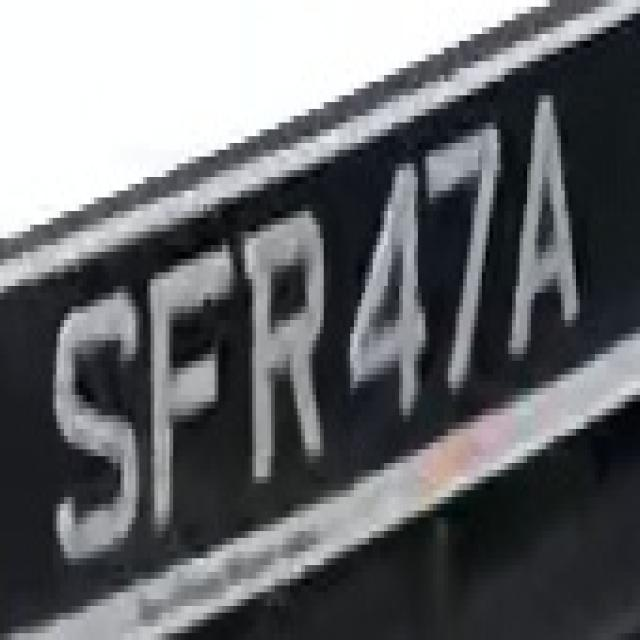4: (342, 157, 422, 456)
7: (418, 102, 504, 422)
A: (512, 68, 591, 381)
F: (136, 231, 244, 538)
R: (234, 211, 332, 524)
S: (41, 272, 143, 565)
